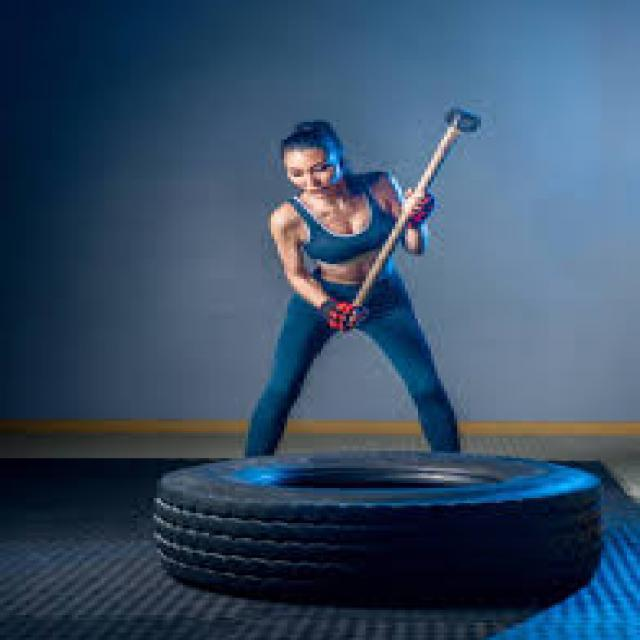hammer: (323, 97, 500, 346)
